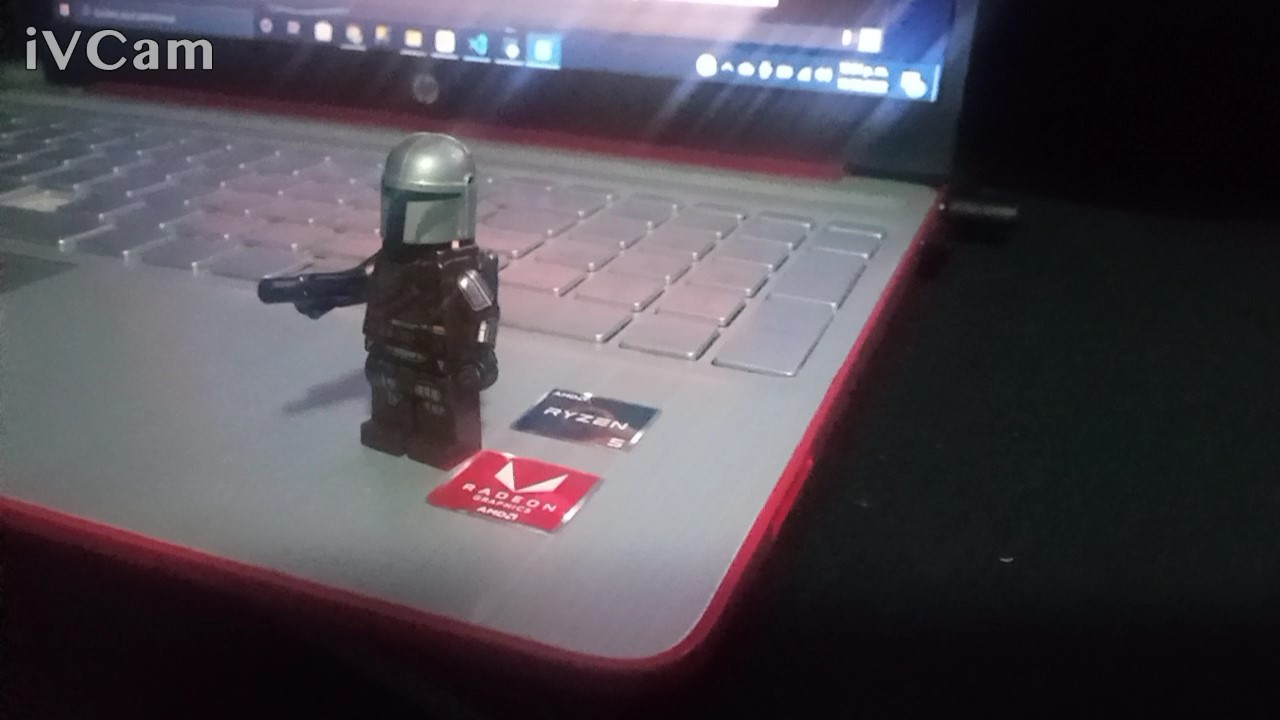mandalorian: (254, 133, 523, 485)
